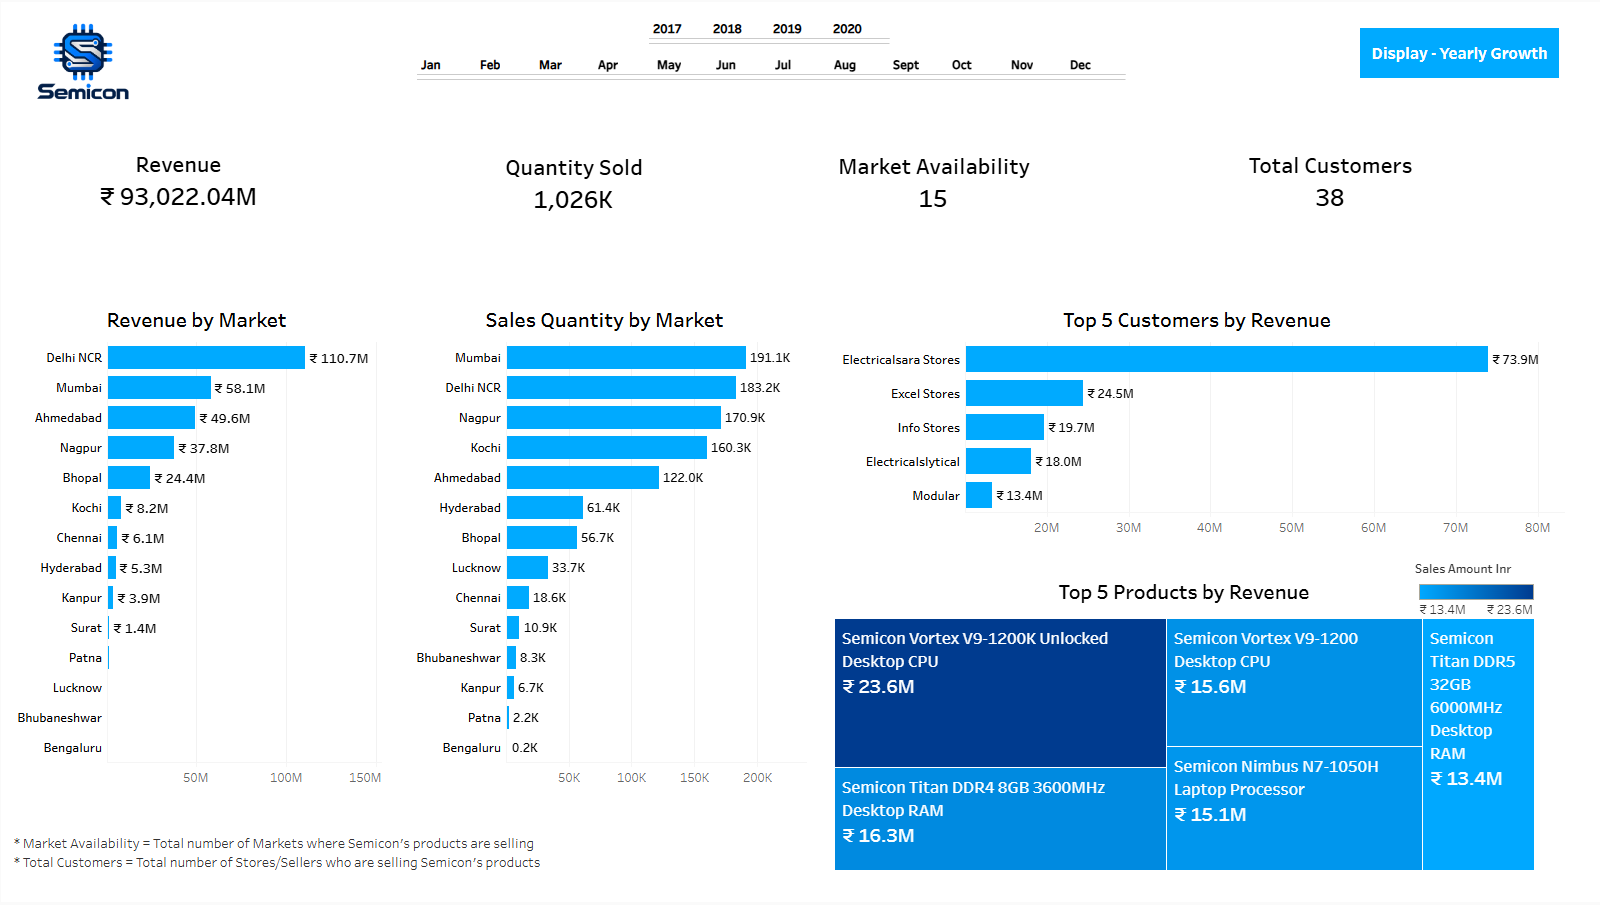

The dashboard page shown, as its layout file describes it:
{"tool":"tableau","page":{"name":"Executive Overview","canvas":[1600,900],"ordinal":0},"visuals":[{"type":"image","param":"Image/Semicon Logo.png","box":[9,6,145,106]},{"type":"worksheet","title":"Year","mark":"Automatic","cols":["cy_date"],"box":[648,16,246,28]},{"type":"dashboard-object","box":[1358,25,201,52]},{"type":"worksheet","title":"Month","mark":"Automatic","cols":["cy_date"],"box":[416,52,713,28]},{"type":"worksheet","title":"Revenue","mark":"Automatic","box":[87,147,186,97]},{"type":"worksheet","title":"Total Customers","mark":"Automatic","box":[1239,148,190,69]},{"type":"worksheet","title":"Market Availability","mark":"Automatic","box":[832,149,200,75]},{"type":"worksheet","title":"Quantity","mark":"Automatic","box":[492,150,162,89]},{"type":"worksheet","title":"Revenue by Market","mark":"Automatic","rows":["markets_name"],"cols":["sales_amount_inr"],"box":[10,297,371,520]},{"type":"worksheet","title":"Sales Quantity by Market","mark":"Automatic","rows":["markets_name"],"cols":["sales_qty"],"box":[401,297,405,520]},{"type":"worksheet","title":"Top 5 Customers by Revenue","mark":"Automatic","rows":["customer_name"],"cols":["sales_amount_inr"],"box":[828,297,736,268]},{"type":"legend","title":"Top 5 Products by Revenue","param":"[federated.0j6zvnc1e63i9p1eny9z31n1refj].[sum:sales_amount_inr:qk]","box":[1414,558,123,65]},{"type":"worksheet","title":"Top 5 Products by Revenue","mark":"Automatic","box":[829,569,720,303]},{"type":"text","box":[13,832,561,36]}]}

Visuals, with their boxes in screenshot pixels (x1, y1, x2, y2), scaled from the page's 1600x900 canvas onto the 1600x905 screenshot:
image: Rect(9, 6, 154, 113)
"Year" worksheet: Rect(648, 16, 894, 44)
dashboard-object: Rect(1358, 25, 1559, 77)
"Month" worksheet: Rect(416, 52, 1129, 80)
"Revenue" worksheet: Rect(87, 148, 273, 245)
"Total Customers" worksheet: Rect(1239, 149, 1429, 218)
"Market Availability" worksheet: Rect(832, 150, 1032, 225)
"Quantity" worksheet: Rect(492, 151, 654, 240)
"Revenue by Market" worksheet: Rect(10, 299, 381, 822)
"Sales Quantity by Market" worksheet: Rect(401, 299, 806, 822)
"Top 5 Customers by Revenue" worksheet: Rect(828, 299, 1564, 568)
"Top 5 Products by Revenue" legend: Rect(1414, 561, 1537, 626)
"Top 5 Products by Revenue" worksheet: Rect(829, 572, 1549, 877)
text: Rect(13, 837, 574, 873)
